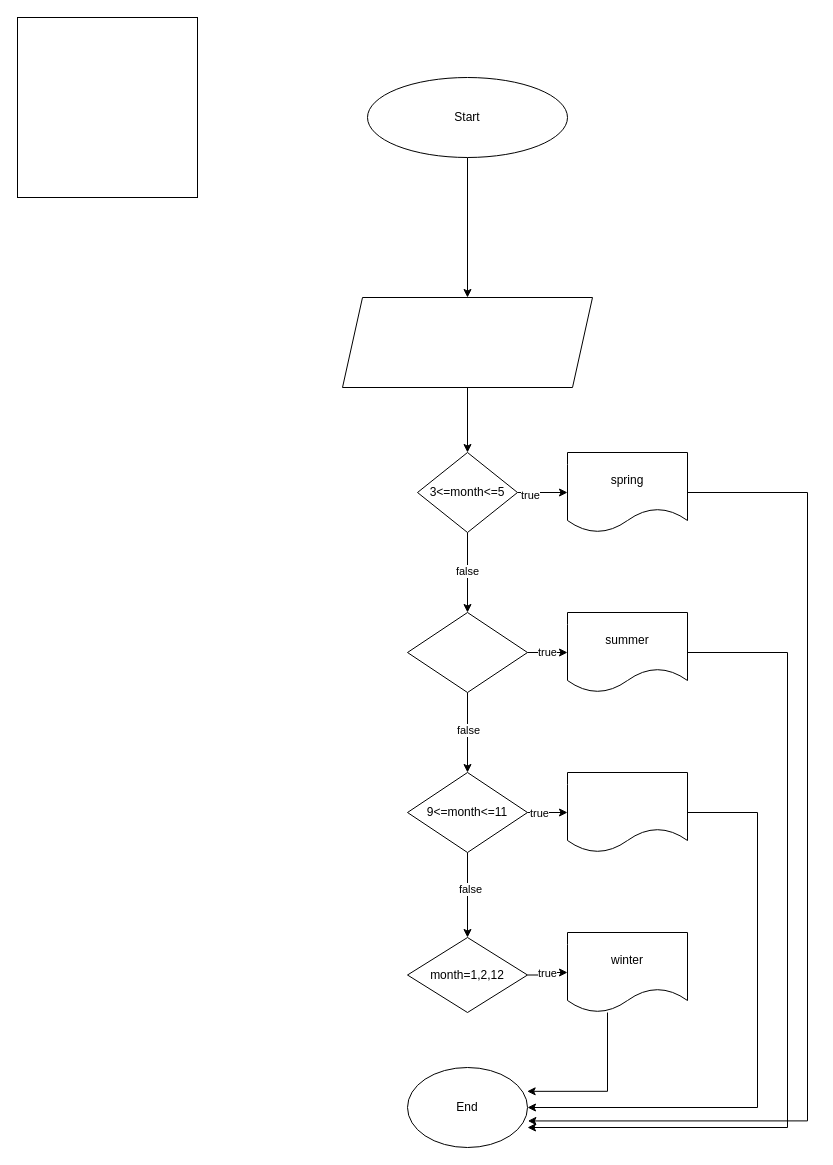
Image size: 833x1165. Some labels were removed from this diagram. Here are the shapes that lost their labels. From the top down, the centre of each, then its label:
At (x=107, y=107): "verilmis ayin ededine gore hansi fesil oldugunu tapan alaqoritm".
At (x=467, y=342): "Months".
At (x=467, y=652): "6<=month<=8".
At (x=627, y=812): "autumn".
